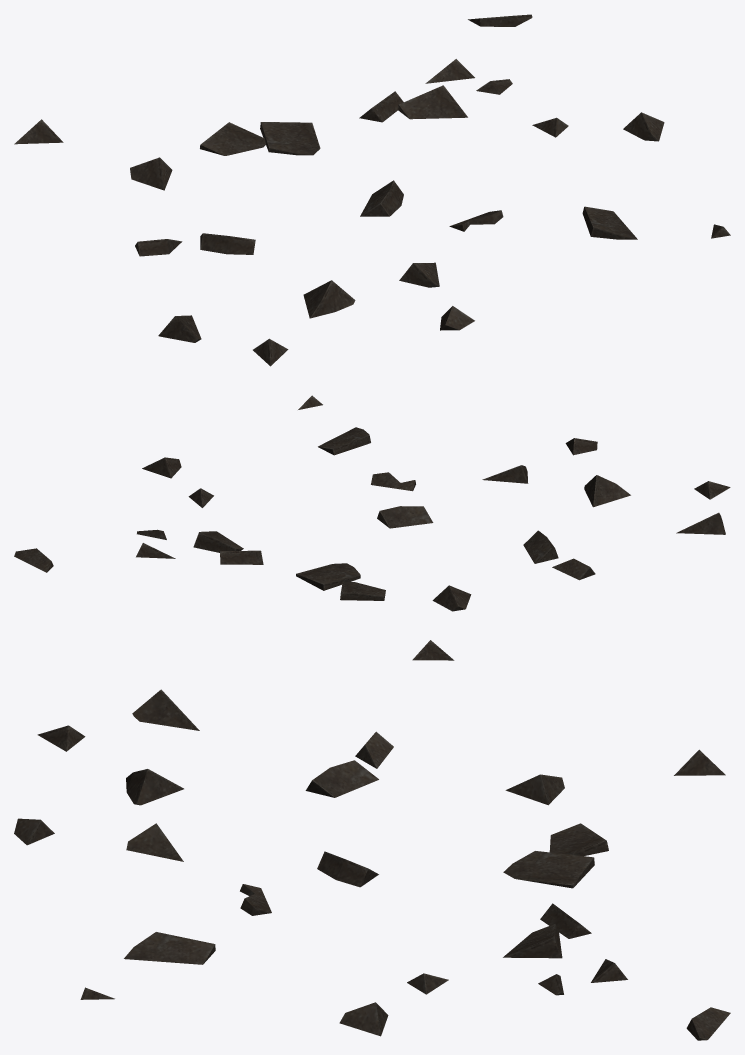
Rendered from debris_bricks_mx_1_0.fbx.
3 renders of one model, top to bottom at view 1: azimuth 30°, elevation 25°; view 2: azimuth 150°, elevation 25°; view 3: azimuth 270°, elevation 25°, orthographic. The views are drawn at different scales.
Parts seen in each view (by area): view 1: debris_bricks_mx_1_0; view 2: debris_bricks_mx_1_0; view 3: debris_bricks_mx_1_0.
Part boxes in pixels (x1,y1,x2,y2): debris_bricks_mx_1_0: (14,14,730,366); debris_bricks_mx_1_0: (14,395,730,660); debris_bricks_mx_1_0: (14,689,730,1040).
Size of the model in its own units: 1.88 by 1.69 by 0.0701.
